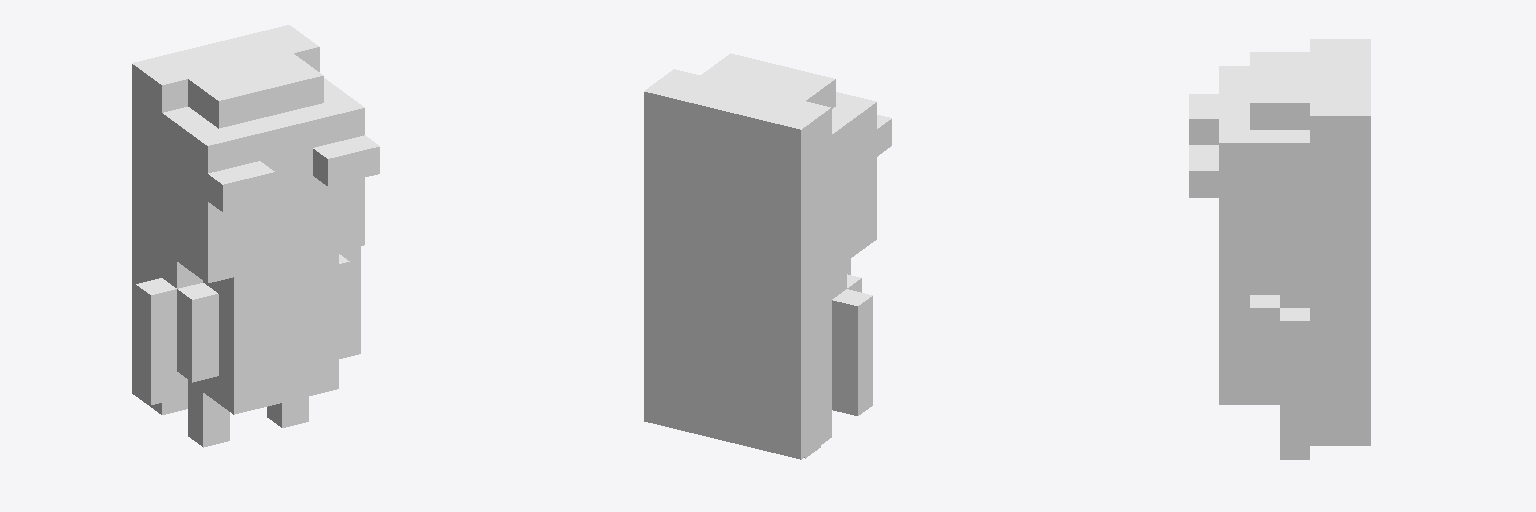
The model's file is chr_testdetective.obj.
3 renders of one model, left to right at view 1: azimuth 30°, elevation 25°; view 2: azimuth 150°, elevation 25°; view 3: azimuth 270°, elevation 25°, orthographic.
Parts seen in each view (by area): view 1: chr_testdetective; view 2: chr_testdetective; view 3: chr_testdetective.
Part boxes in pixels (left/top/right/bottom): chr_testdetective: left=132, top=25, right=379, bottom=447; chr_testdetective: left=644, top=53, right=891, bottom=459; chr_testdetective: left=1189, top=39, right=1370, bottom=459.
Bounding box in the file's own units: 8 × 13 × 6.